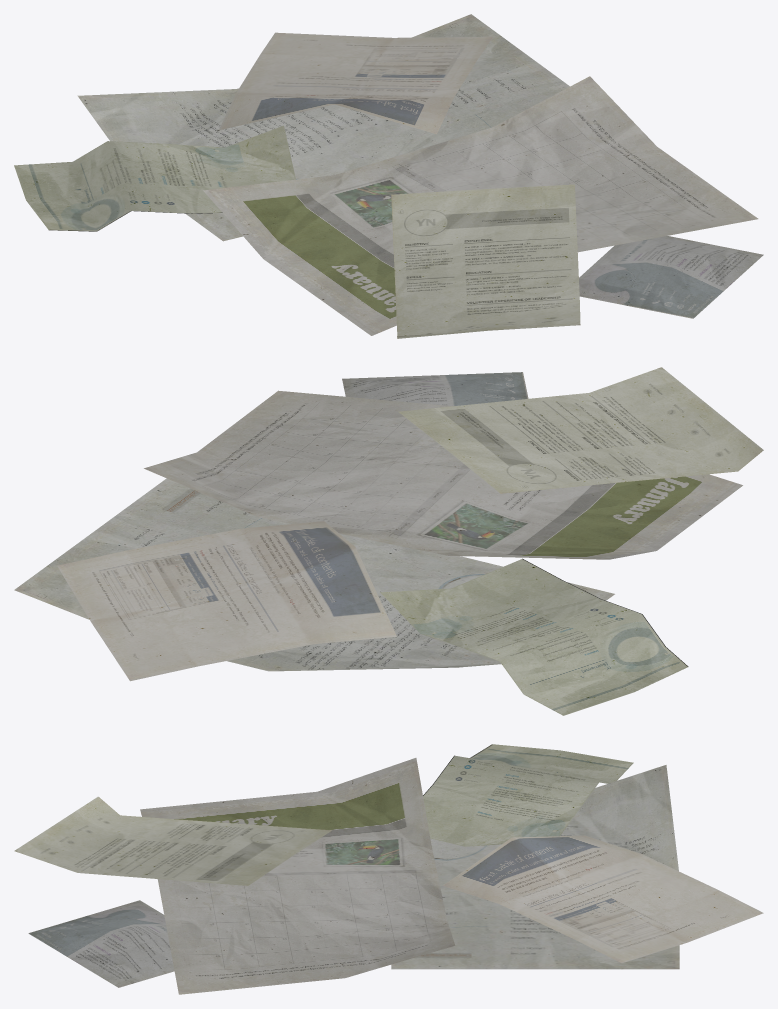
File: SM_Debris_Paper_Set1.fbx
3 renders of one model, top to bottom at view 1: azimuth 30°, elevation 25°; view 2: azimuth 150°, elevation 25°; view 3: azimuth 270°, elevation 25°, orthographic. The views are drawn at different scales.
Visible parts, largest first — view 1: SM_Debris_Paper_Set1_LOD0; view 2: SM_Debris_Paper_Set1_LOD0; view 3: SM_Debris_Paper_Set1_LOD0.
Part boxes in pixels (box(x1,y1,x2,y2)): SM_Debris_Paper_Set1_LOD0: box(14, 14, 763, 338); SM_Debris_Paper_Set1_LOD0: box(14, 367, 763, 715); SM_Debris_Paper_Set1_LOD0: box(14, 744, 763, 994).
Bounding box in the file's own units: 56.92 × 72.02 × 5.16.
Materials: 1 (1 with a texture image).
